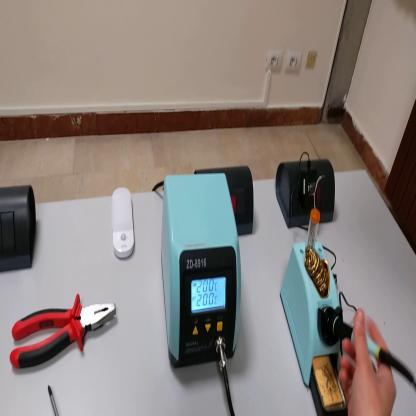hand: (340, 310, 397, 416)
pliers: (11, 295, 120, 369)
screwdriver-: (47, 387, 62, 415)
socket: (195, 163, 256, 238), (276, 158, 337, 227)
welder base: (282, 232, 349, 415)
welder probe tip: (328, 314, 412, 395)
welder station: (160, 171, 242, 366)
